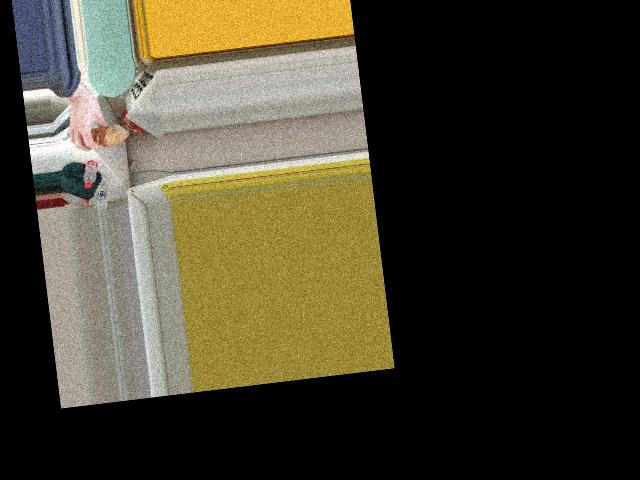sweet_potato: (88, 124, 121, 148)
